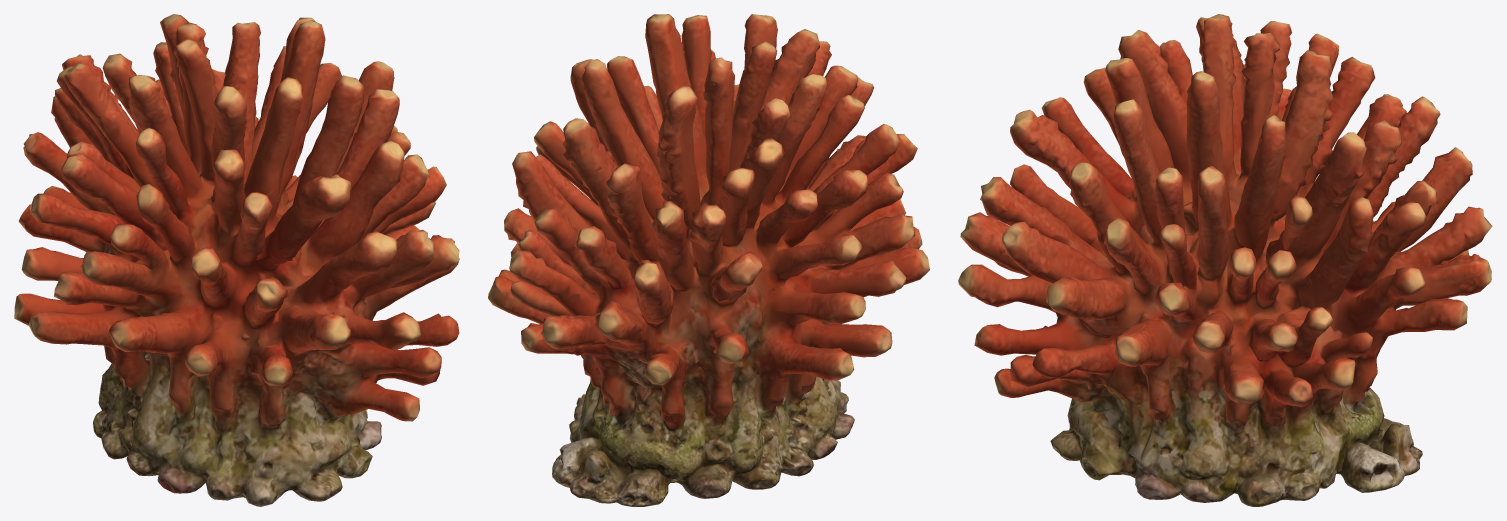
Rendered from coral_digitata.glb.
The picture shows the model from 3 angles, left to right: view 1: azimuth 30°, elevation 25°; view 2: azimuth 150°, elevation 25°; view 3: azimuth 270°, elevation 25°; orthographic projection. The views are drawn at different scales.
Parts seen in each view (by area): view 1: tripo_node_913868d4-5441-482c-88ae-49eed0b43d13; view 2: tripo_node_913868d4-5441-482c-88ae-49eed0b43d13; view 3: tripo_node_913868d4-5441-482c-88ae-49eed0b43d13.
Part boxes in pixels (bbox=[...]): tripo_node_913868d4-5441-482c-88ae-49eed0b43d13: bbox=[14, 14, 459, 506]; tripo_node_913868d4-5441-482c-88ae-49eed0b43d13: bbox=[488, 14, 929, 506]; tripo_node_913868d4-5441-482c-88ae-49eed0b43d13: bbox=[958, 14, 1492, 506].
Bounding box in the file's own units: 0.8266 × 0.8539 × 1.
Materials: 1 (1 with a texture image).
